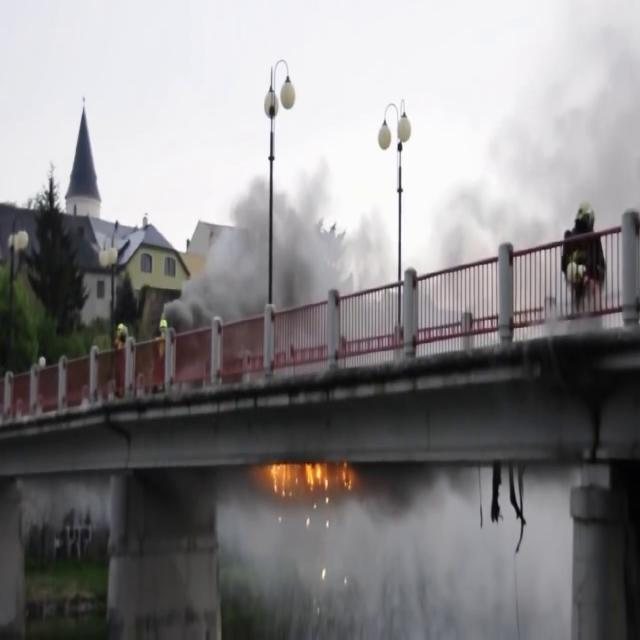Fire: (254, 449, 356, 502)
Smoke: (174, 80, 386, 350), (436, 25, 638, 282)
